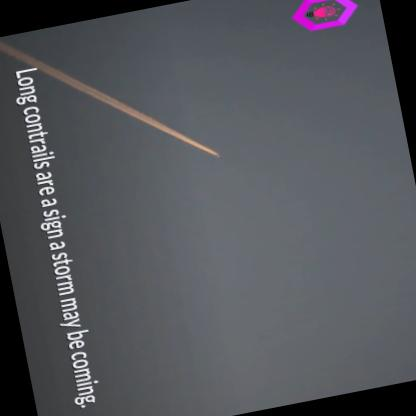plane: (212, 152, 225, 160)
